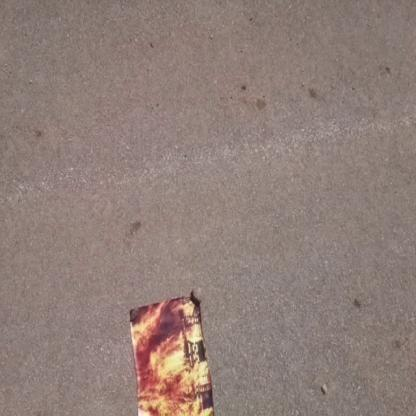fire-poster: (127, 286, 216, 415)
